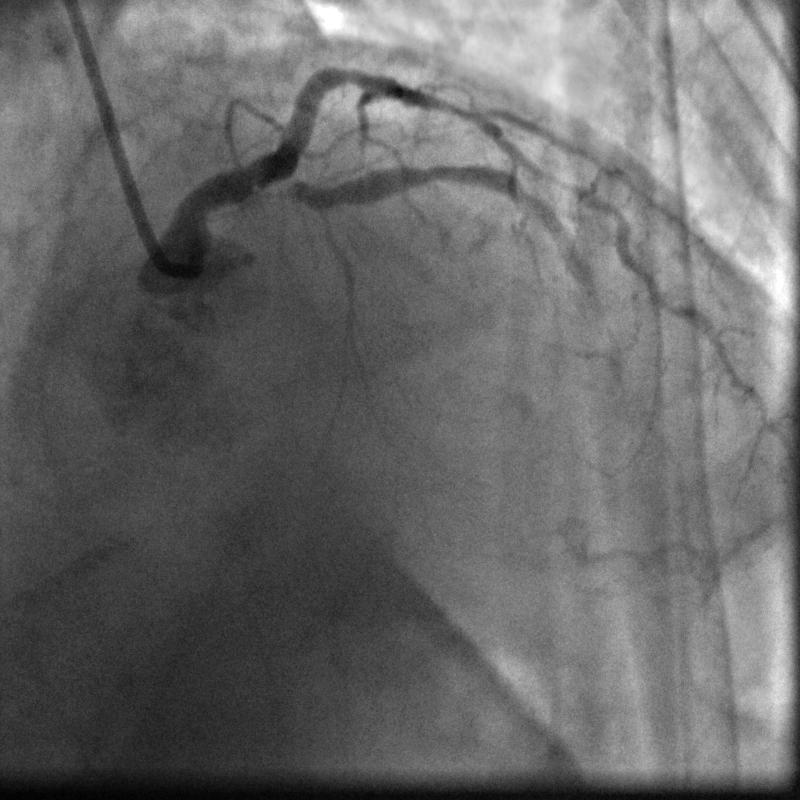Stenosis: (265, 167, 305, 200)
